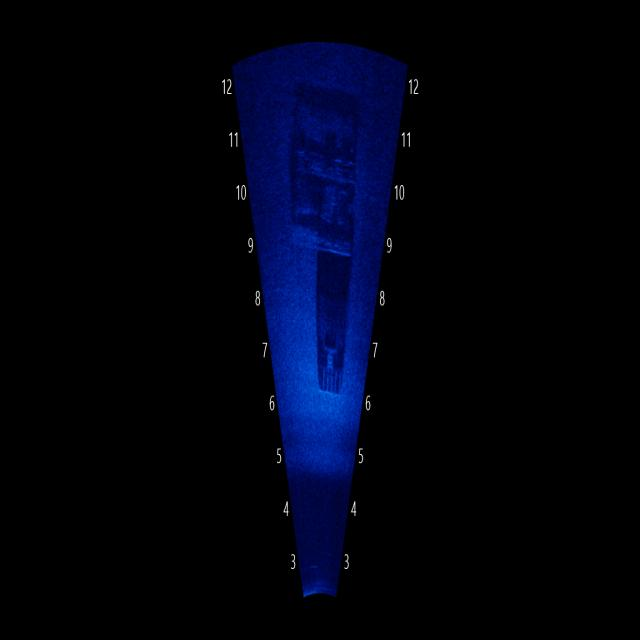square: (278, 84, 368, 269), (298, 276, 356, 434)
